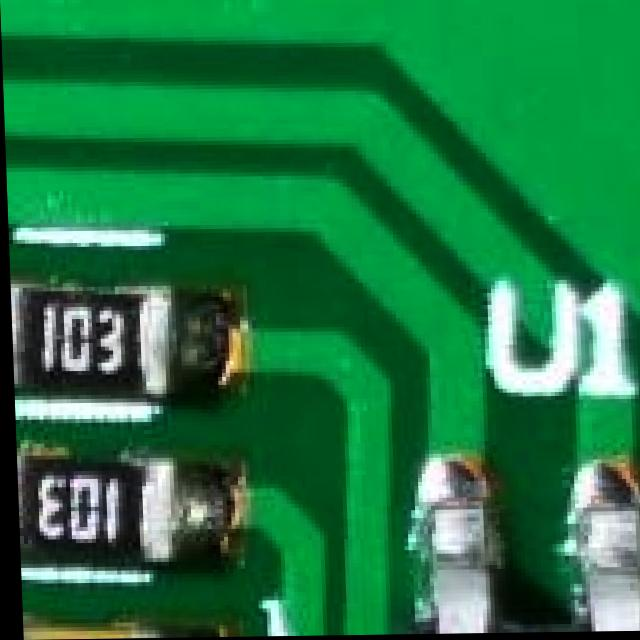IC: (394, 489, 640, 636)
capacitor: (18, 618, 219, 640)
resistor: (13, 442, 197, 588), (8, 274, 192, 408)
